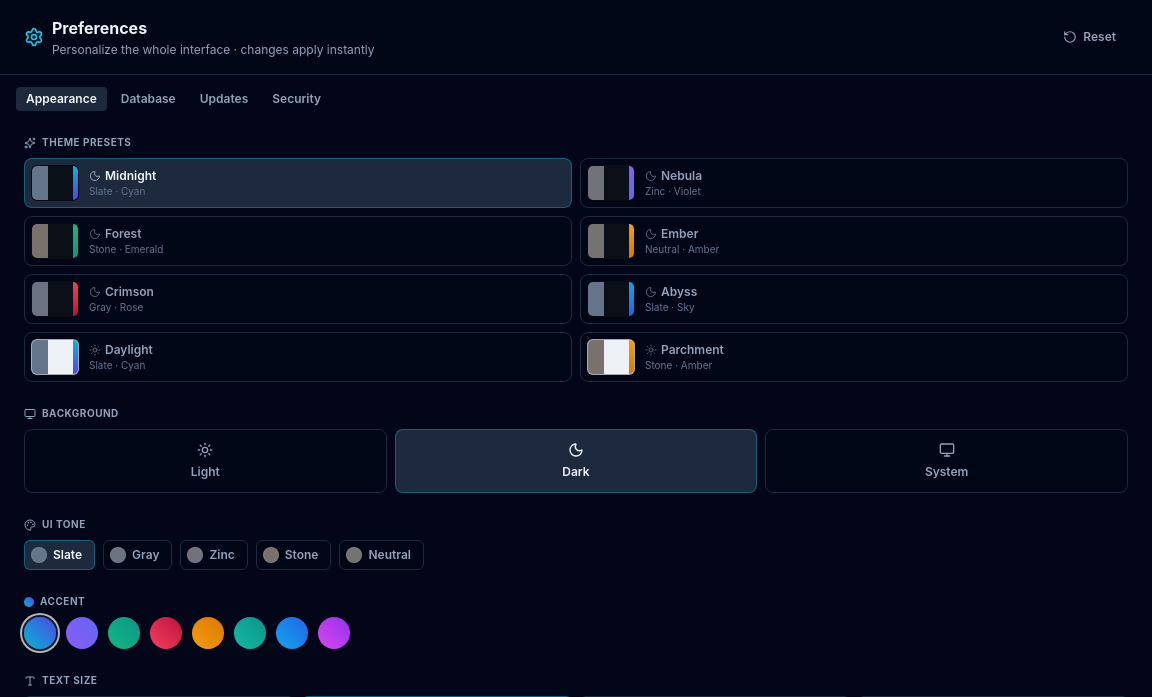
it: SettingsPanel › opens as a Preferences workspace with tabs
The image size is (1152, 697).
Expected: the element with test id "settings-view" shows "Preferences", [52,18,147,38]
Click the button with test id "settings-tab-database" at (148, 99), box [111,87,186,111]
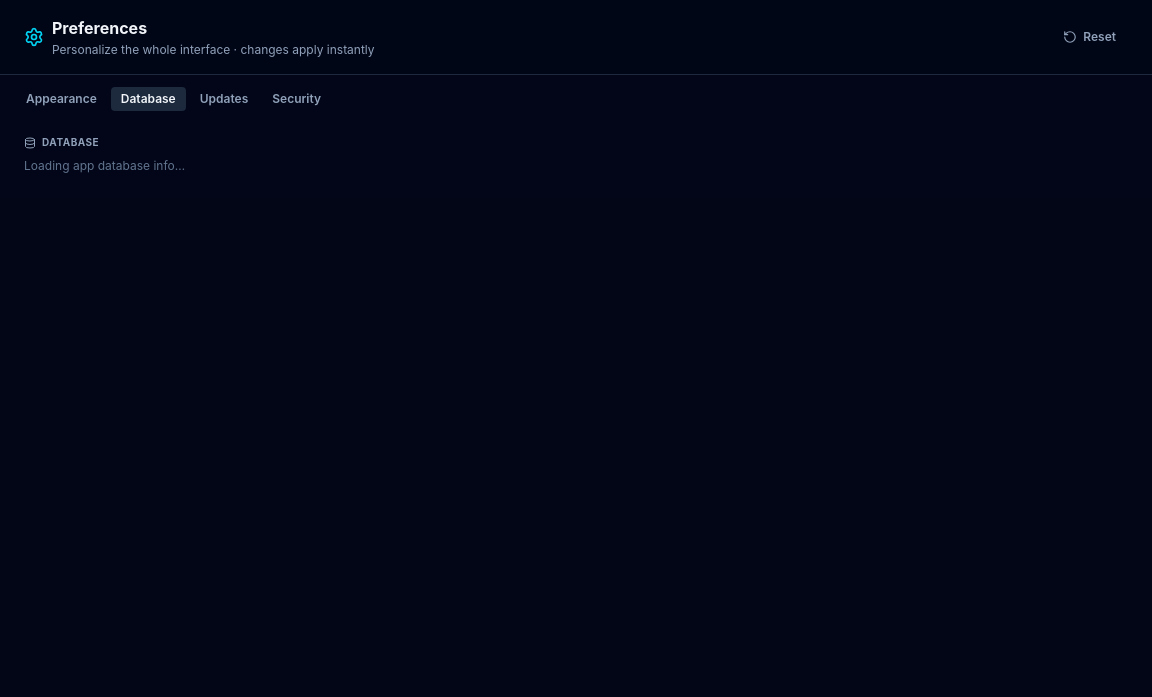
Expected: the button with test id "settings-tab-database" is marked as current, [111,87,186,111]
Click the button with test id "settings-tab-updates" at (224, 99), box [190,87,258,111]
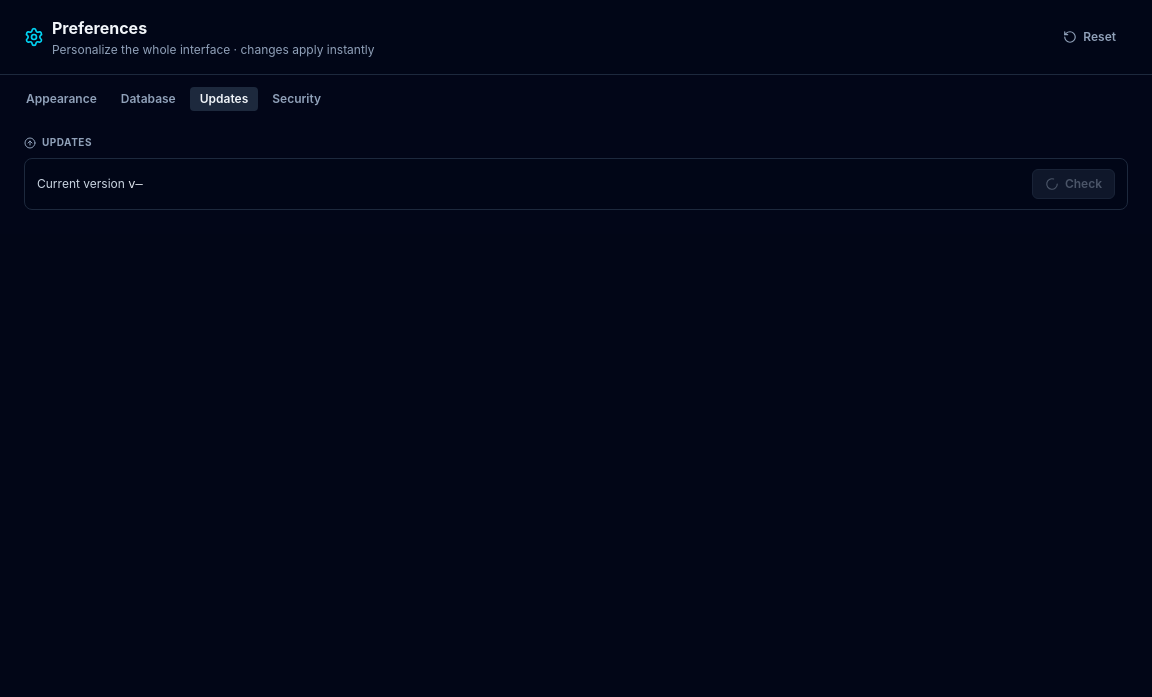
Expected: the button with test id "settings-tab-updates" is marked as current, [190,87,258,111]
Click the button with test id "settings-tab-security" at (297, 99), box [262,87,331,111]
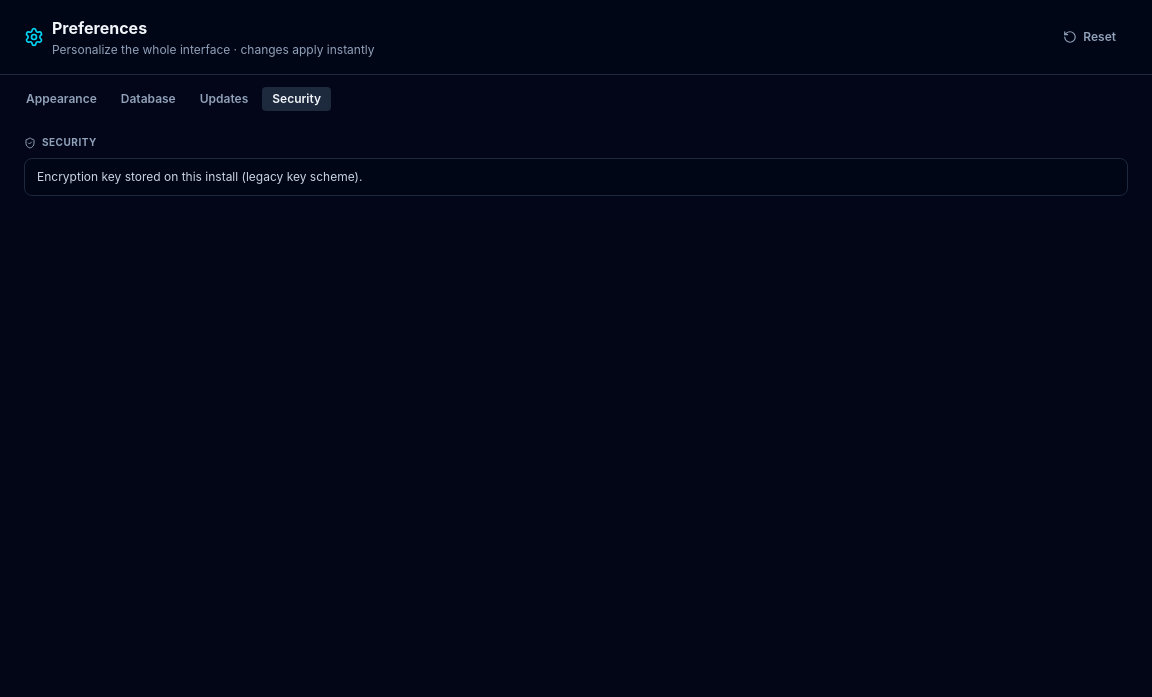
Expected: the button with test id "settings-tab-security" is marked as current, [262,87,331,111]
